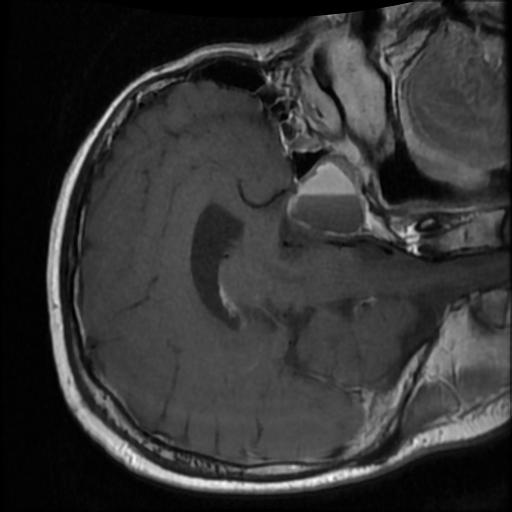pituitary tumour: (279, 152, 370, 239)
